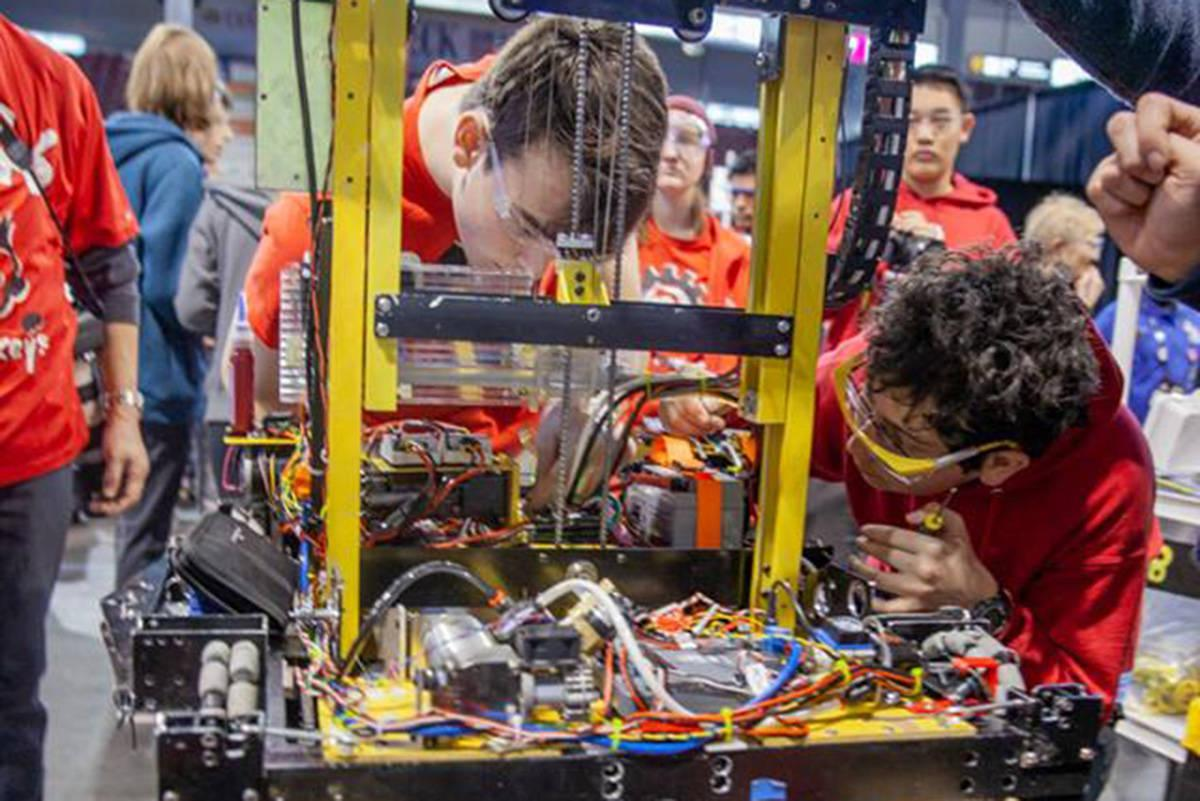robot: (136, 0, 1110, 801)
